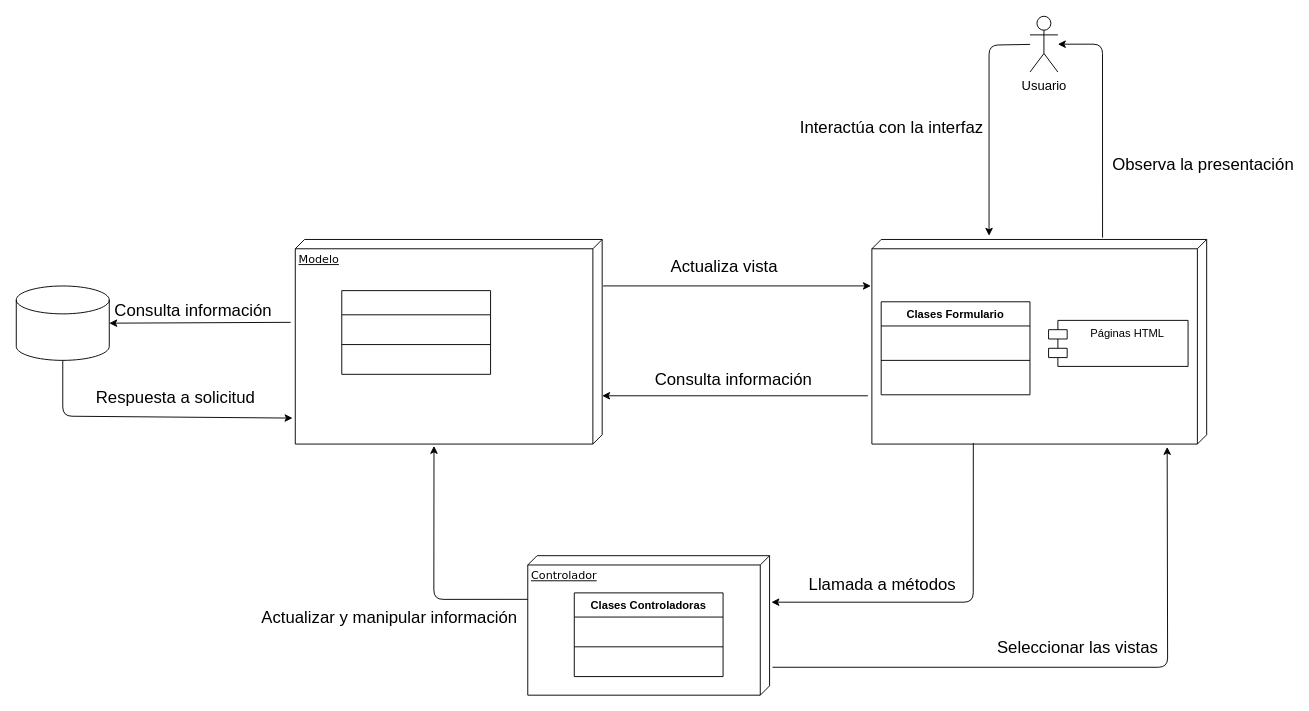
Image size: 1309x711. Some labels were removed from this diagram. The shapes that lost their labels are listed below. From the top down, each one's box as (x1, y1, x2, y2) in pixels, then its label:
(15, 285, 109, 360): Base de datos
(341, 290, 491, 374): Clases Modelo
(871, 239, 1207, 444): Vista
